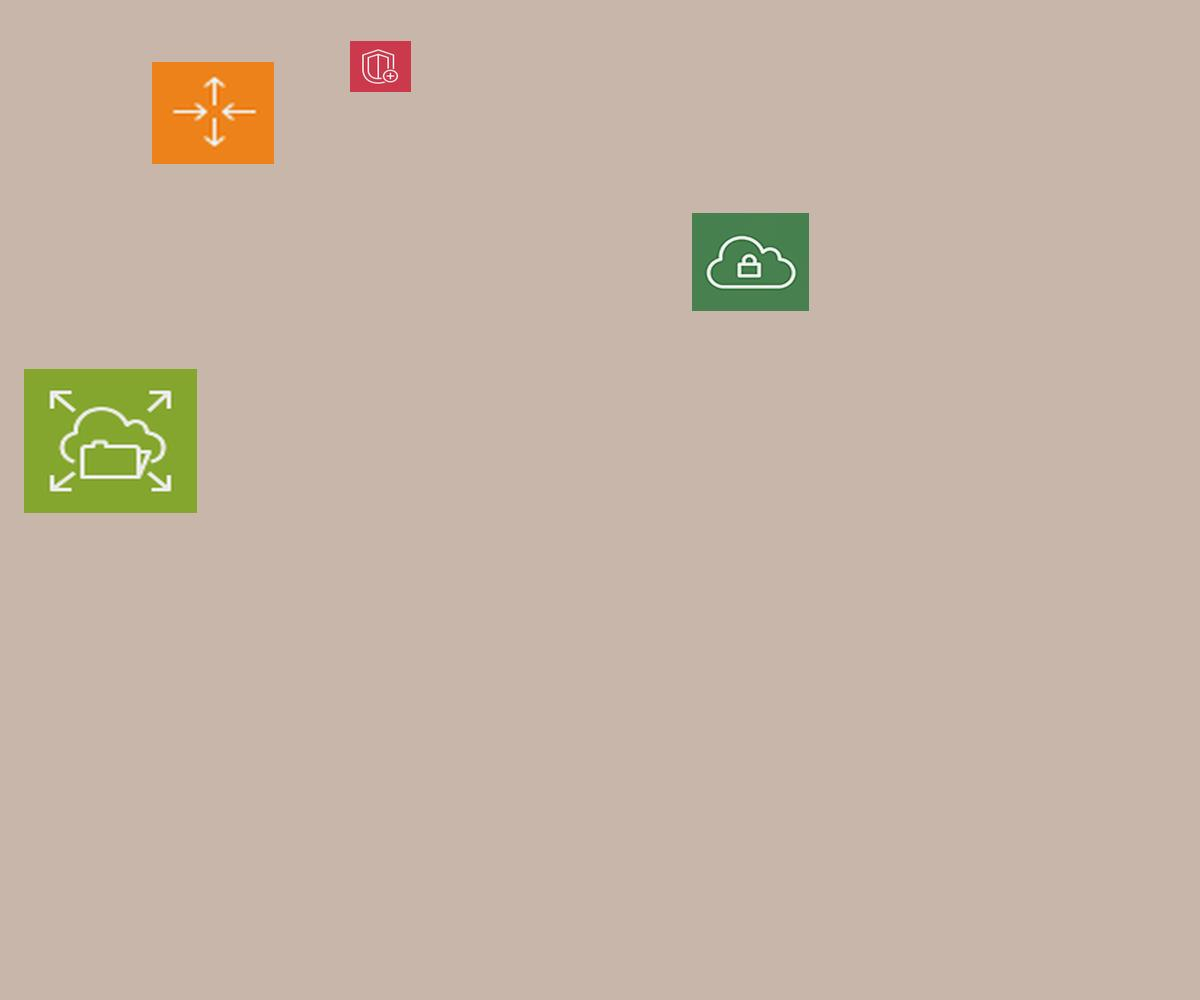AWS-EFS: (24, 369, 197, 513)
AWS-Private_vpc: (692, 213, 809, 311)
AWS-Scaling-group: (152, 62, 274, 164)
AWS-Shield: (350, 41, 411, 92)
